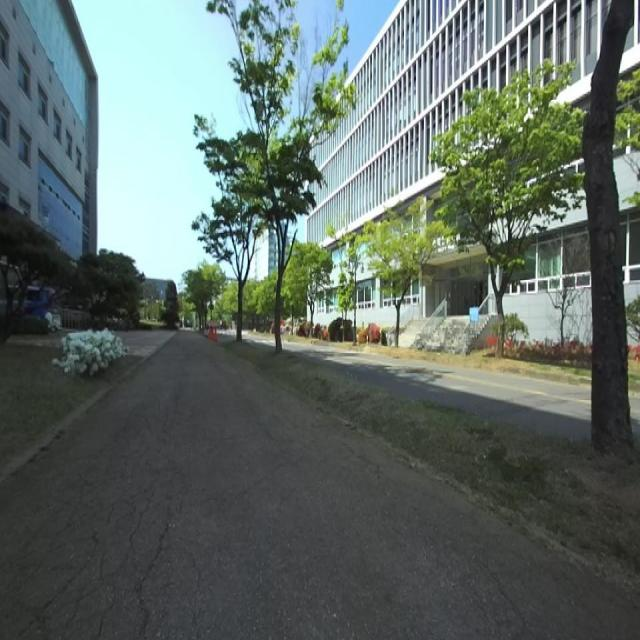sidewalk: (0, 333, 640, 639)
